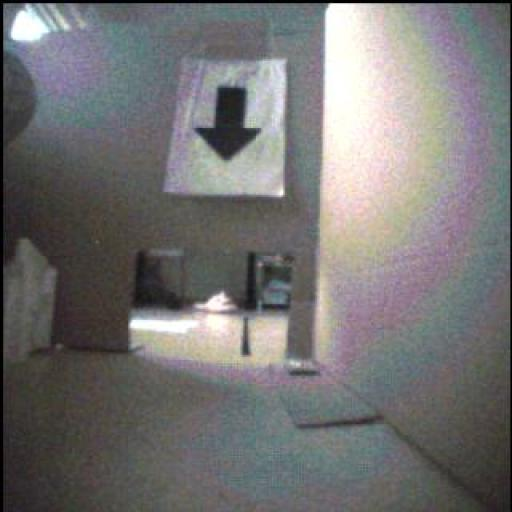arrow: (196, 87, 262, 161)
